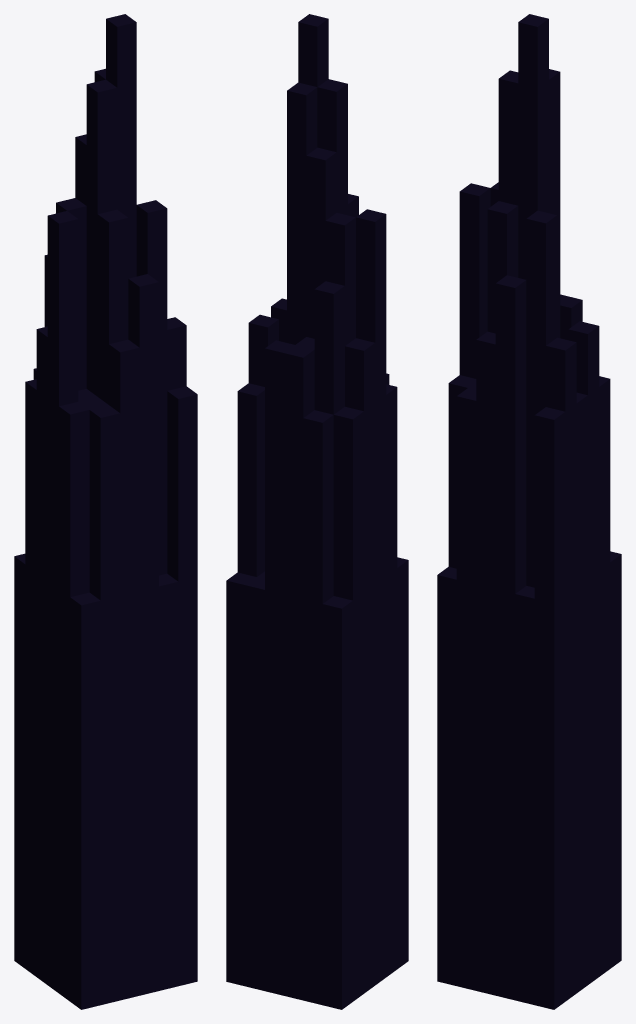
The model's file is mountains.fbx.
3 renders of one model, left to right at view 1: azimuth 30°, elevation 25°; view 2: azimuth 150°, elevation 25°; view 3: azimuth 330°, elevation 25°, orthographic.
Parts seen in each view (by area): view 1: mountains; view 2: mountains; view 3: mountains.
Boxes of the visible parts, x1,y1,x2,y2 form: mountains: (14, 14, 197, 1009); mountains: (226, 14, 408, 1009); mountains: (437, 14, 621, 1009).
Size of the model in its own units: 200 by 1565 by 200.
